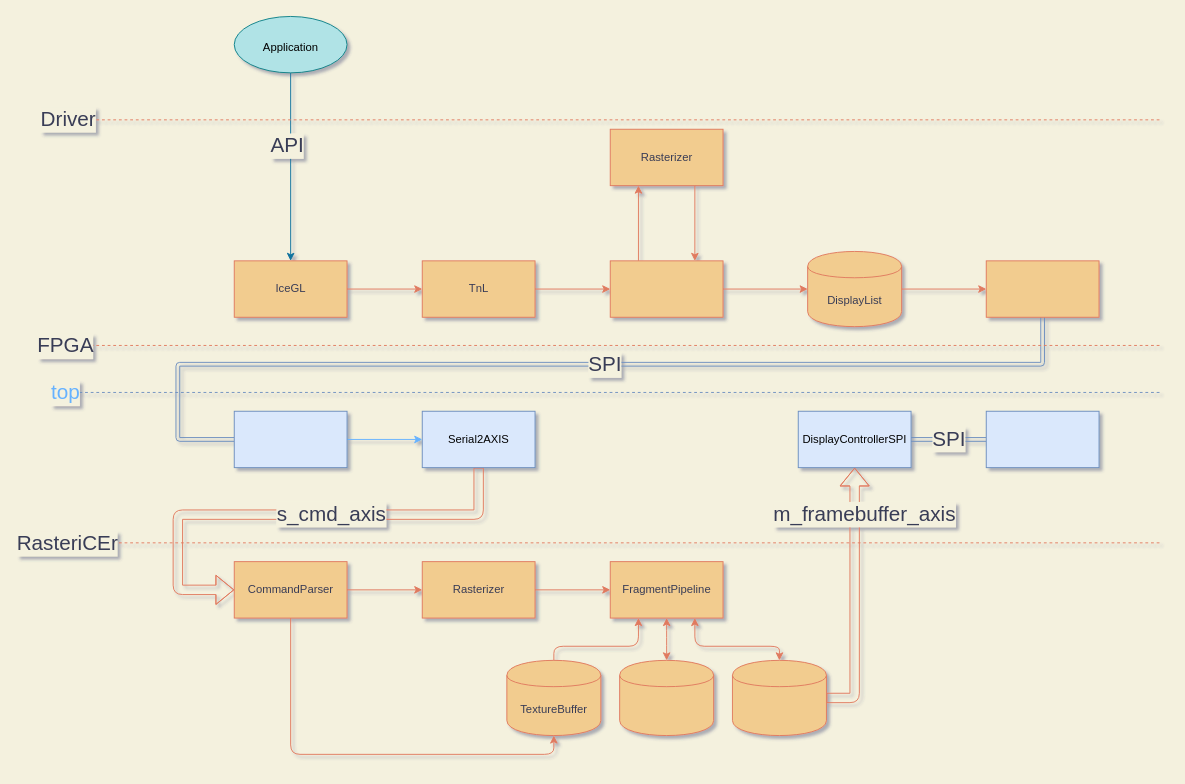
The diagram is 1185 pixels wide and 784 high, and some of its shapes have lost their labels. The shapes that lost their labels are listed below. From the top down, each one's box as (x1, y1, x2, y2) in pixels, then its label:
(609, 260, 723, 317): IRenderer / Renderer
(985, 260, 1099, 317): IBusConnector
(233, 410, 347, 468): SPI_Slave
(985, 410, 1099, 468): Display
(619, 659, 714, 736): DepthBuffer
(732, 659, 826, 736): ColorBuffer
